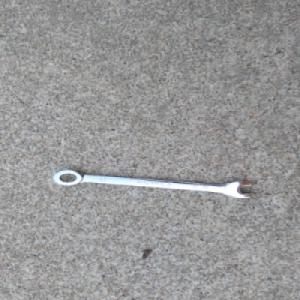Wrench: (50, 169, 256, 199)
